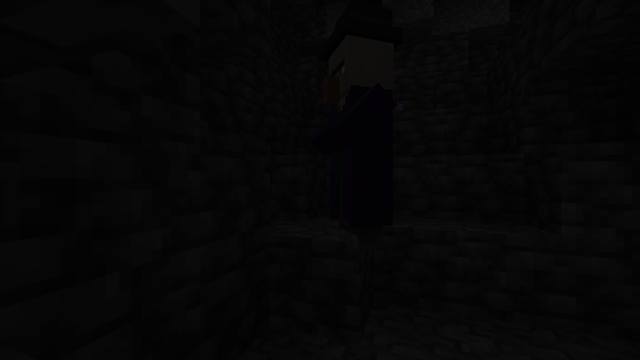sorcieres: (320, 19, 393, 253)
